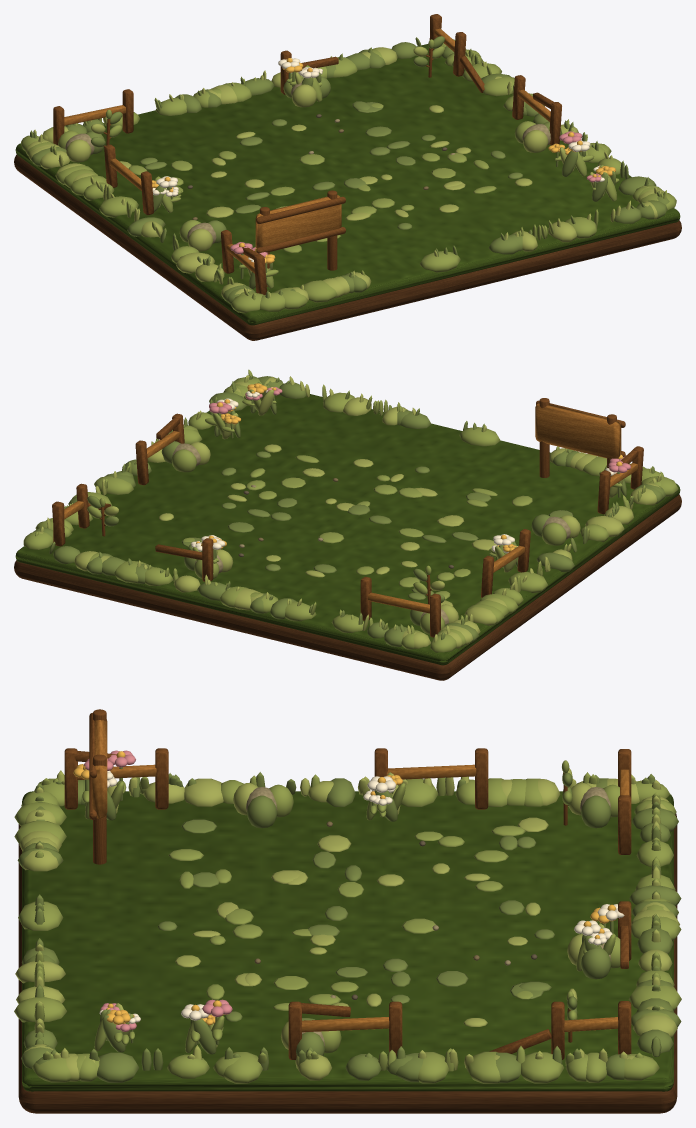
The model's file is stage-1.glb.
The picture shows the model from 3 angles, top to bottom: view 1: azimuth 30°, elevation 25°; view 2: azimuth 150°, elevation 25°; view 3: azimuth 270°, elevation 25°; orthographic projection. The views are drawn at different scales.
Visible parts, largest first — view 1: Surface_Moss lawn, Surface_Foliage 1, Surface_Foliage 0, Surface_Ochre earth, Surface_Foliage 2, Surface_Honey wood, Surface_Golden end grain, Surface_Petal ivory, Surface_Petal marigold, Surface_Stone 1, Surface_Petal blush; view 2: Surface_Moss lawn, Surface_Foliage 1, Surface_Foliage 0, Surface_Ochre earth, Surface_Foliage 2, Surface_Honey wood, Surface_Golden end grain, Surface_Petal ivory, Surface_Petal marigold, Surface_Stone 1, Surface_Petal blush; view 3: Surface_Moss lawn, Surface_Foliage 1, Surface_Foliage 0, Surface_Ochre earth, Surface_Foliage 2, Surface_Honey wood, Surface_Golden end grain, Surface_Petal ivory, Surface_Petal marigold, Surface_Petal blush, Surface_Stone 1.
Part boxes in pixels (box(x1,y1,x2,y2)): Surface_Moss lawn: box(15, 44, 680, 325); Surface_Foliage 1: box(21, 39, 676, 313); Surface_Foliage 0: box(30, 36, 669, 304); Surface_Ochre earth: box(14, 154, 681, 340); Surface_Foliage 2: box(25, 46, 664, 301); Surface_Honey wood: box(53, 14, 561, 294); Surface_Golden end grain: box(64, 28, 550, 273); Surface_Petal ivory: box(152, 58, 604, 262); Surface_Petal marigold: box(152, 58, 615, 263); Surface_Stone 1: box(65, 79, 550, 243); Surface_Petal blush: box(230, 131, 601, 257); Surface_Moss lawn: box(15, 394, 680, 665); Surface_Foliage 1: box(23, 369, 678, 652); Surface_Foliage 0: box(33, 374, 665, 646); Surface_Ochre earth: box(14, 494, 681, 680); Surface_Foliage 2: box(38, 375, 661, 648); Surface_Honey wood: box(52, 398, 643, 637); Surface_Golden end grain: box(64, 402, 637, 613); Surface_Petal ivory: box(191, 387, 617, 553); Surface_Petal marigold: box(196, 383, 626, 551); Surface_Stone 1: box(172, 443, 570, 624); Surface_Petal blush: box(209, 387, 630, 472); Surface_Moss lawn: box(22, 791, 673, 1091); Surface_Foliage 1: box(14, 760, 681, 1083); Surface_Foliage 0: box(17, 767, 681, 1083); Surface_Ochre earth: box(18, 813, 677, 1113); Surface_Foliage 2: box(15, 768, 679, 1081); Surface_Honey wood: box(64, 709, 631, 1059); Surface_Golden end grain: box(77, 719, 629, 1032); Surface_Petal ivory: box(99, 770, 624, 1023); Surface_Petal marigold: box(73, 751, 616, 1025); Surface_Petal blush: box(83, 750, 232, 1031); Surface_Stone 1: box(246, 787, 611, 1045).
Bounding box in the file's own units: 7.38 × 1.68 × 7.
13 materials, 7 textured.
